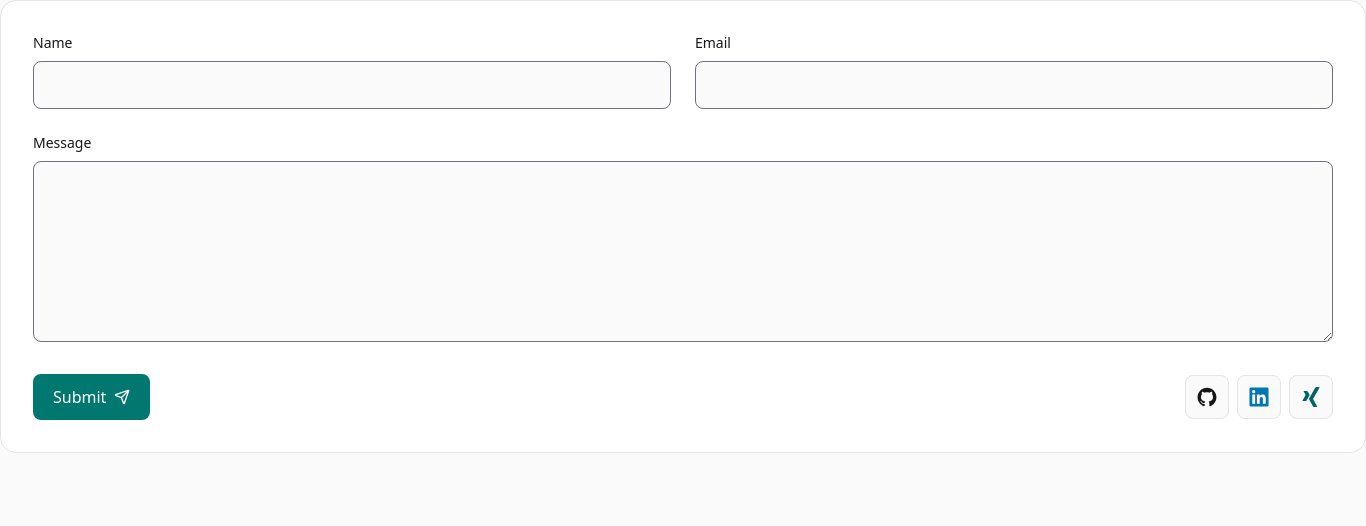
Test: ContactForm › explains invalid email and too short message
The image size is (1366, 526).
In the field with id "contact-name": (352, 85) [33,61,671,109], type "Alex"
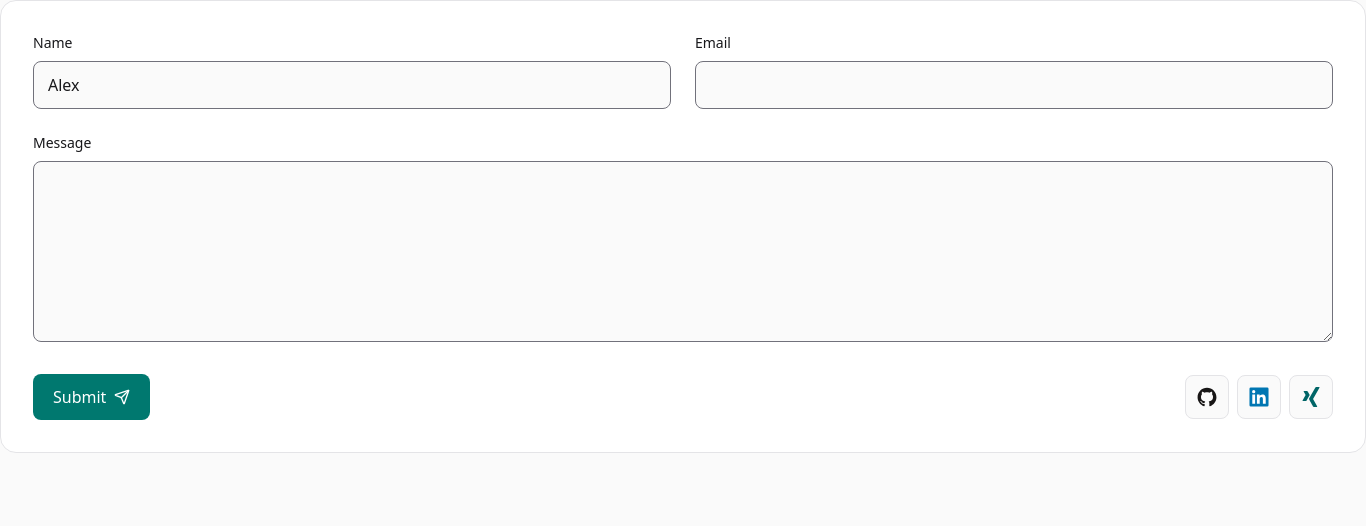
In the field with id "contact-email": (1014, 85) [695,61,1333,109], type "not-an-email"
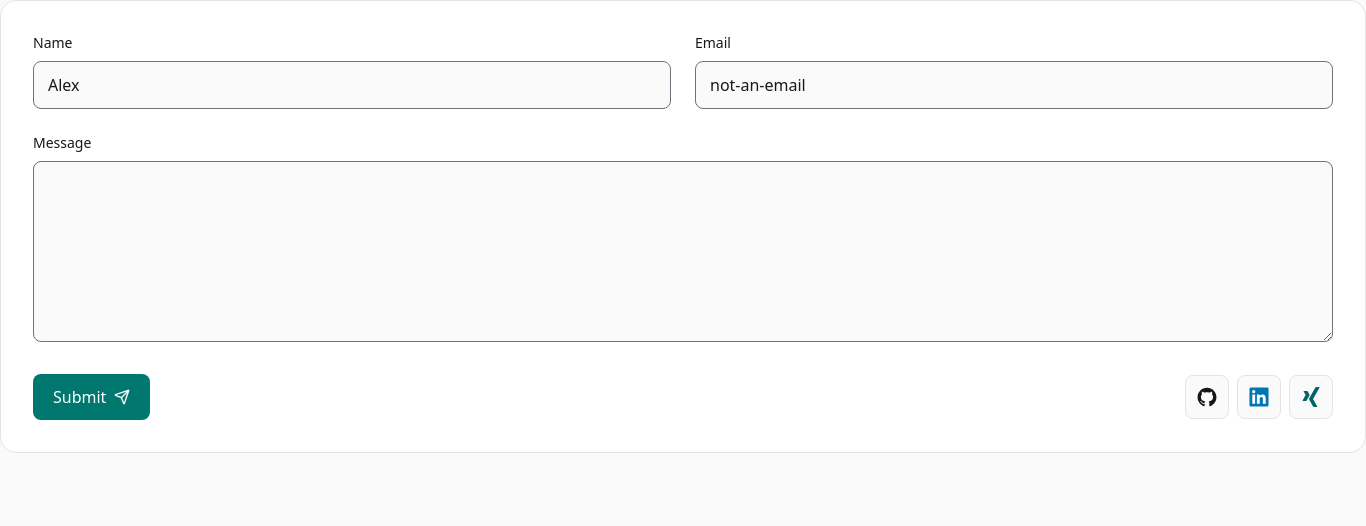
In the text box with id "contact-message": (683, 252) [33,161,1333,342], type "Hi"
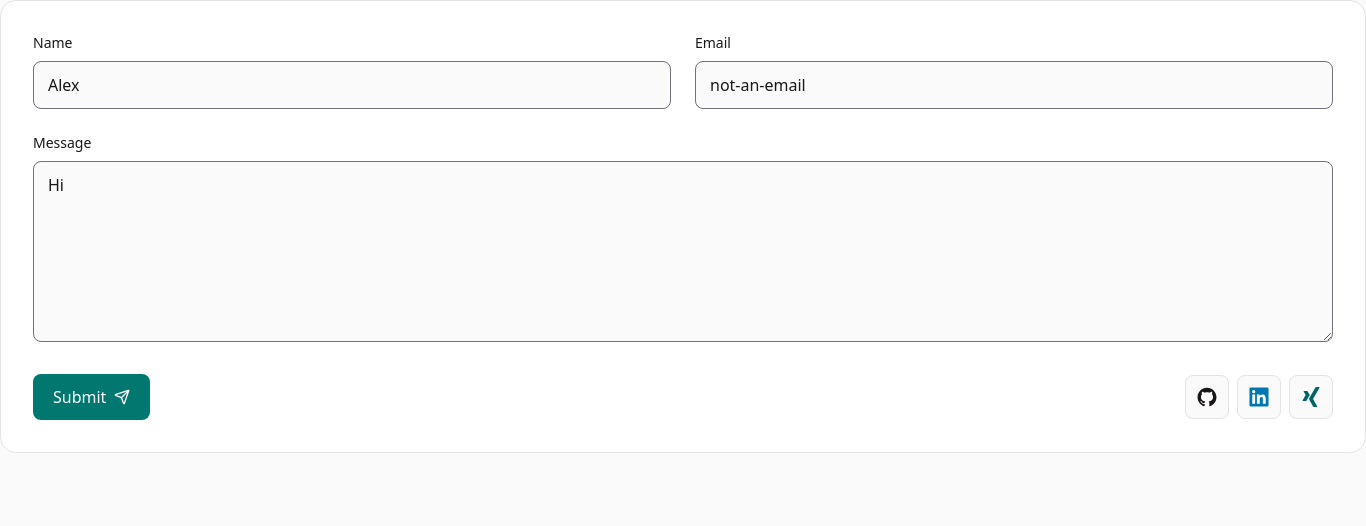
Submit the form
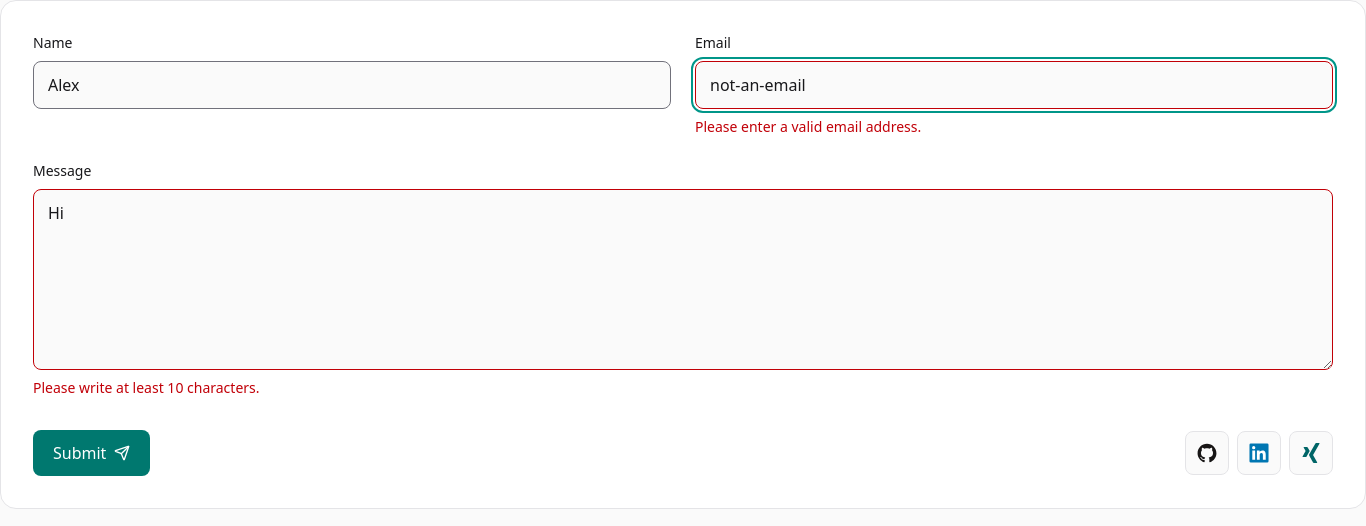
expect the text with id "contact-email-error" reads "Please enter a valid email address.": met, box [695,117,921,136]
expect the text with id "contact-message-error" reads "Please write at least 10 characters.": met, box [33,378,260,397]
